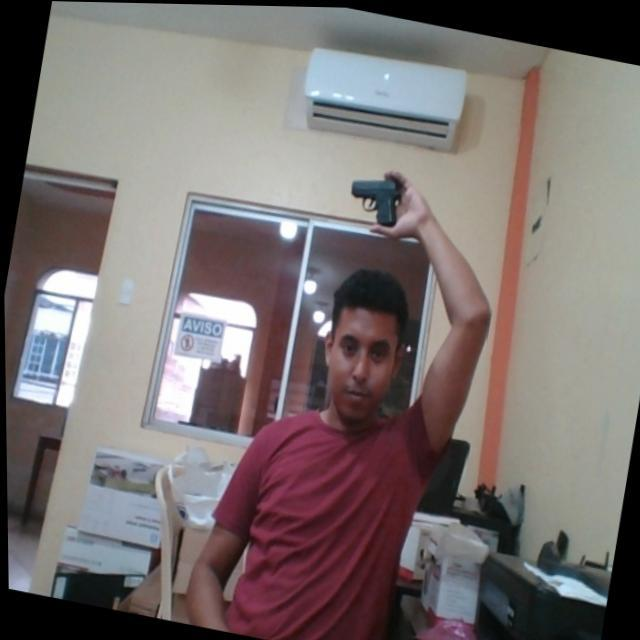weapon: (344, 166, 406, 228)
